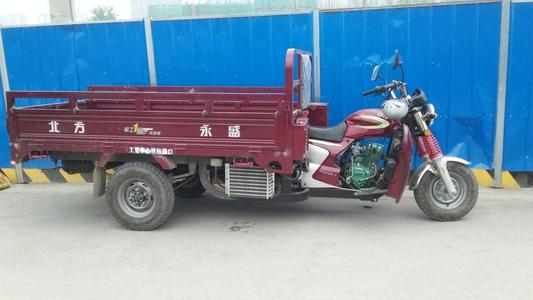tricycle: (9, 44, 486, 231)
